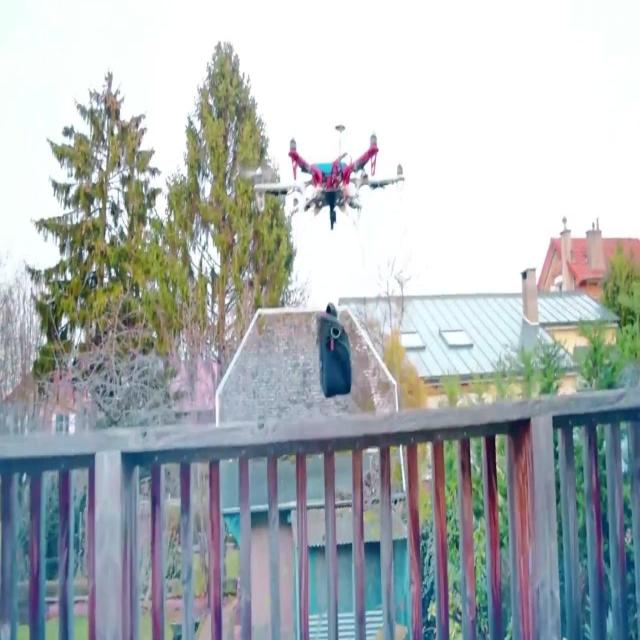drone: (258, 122, 406, 233)
